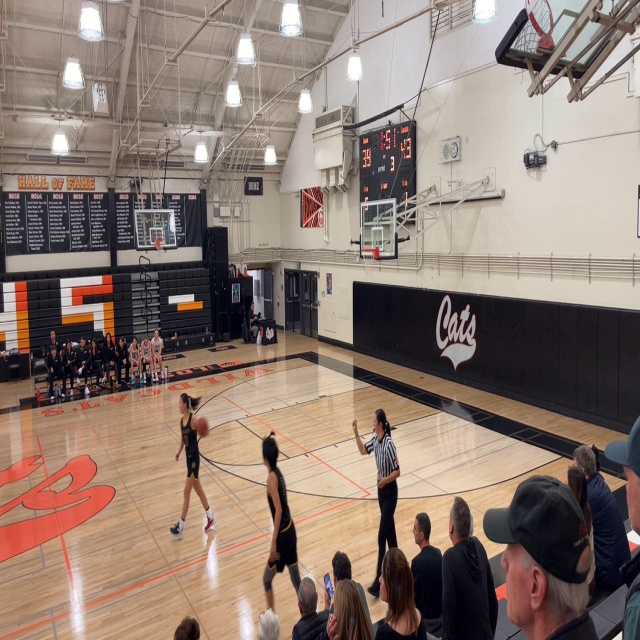Basketball: (195, 417, 209, 437)
